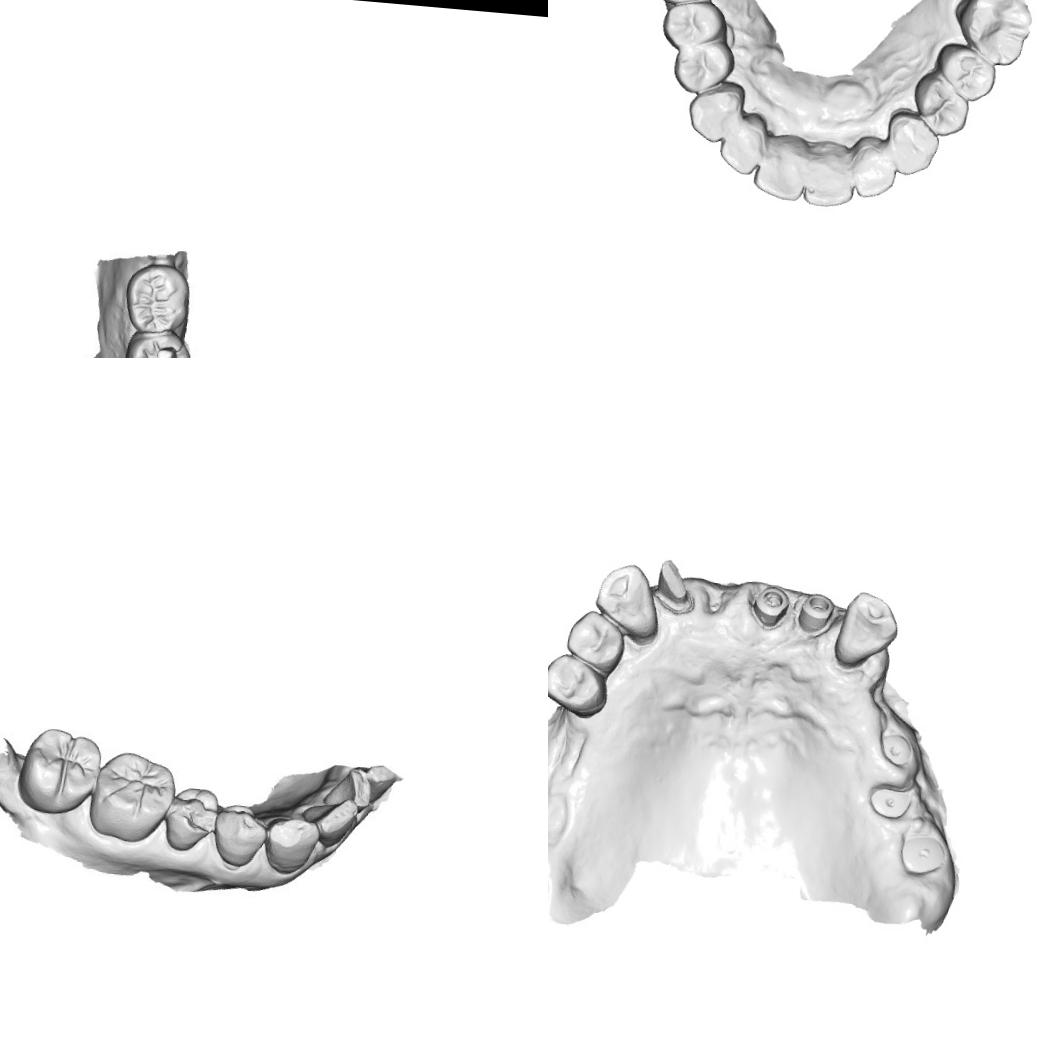canine: (832, 587, 900, 667), (592, 560, 660, 637), (881, 108, 943, 179), (262, 812, 318, 877), (684, 84, 741, 146)
crown: (648, 552, 697, 610)
implant: (898, 833, 950, 878), (868, 778, 913, 822), (750, 583, 792, 630), (796, 589, 838, 634), (875, 731, 914, 769)
incisor: (749, 133, 810, 204), (800, 140, 857, 210), (846, 138, 900, 200), (715, 117, 765, 179), (301, 798, 360, 846), (320, 763, 372, 813)
molar: (82, 747, 178, 847), (15, 722, 102, 819), (952, 0, 1035, 68), (127, 264, 188, 329), (122, 328, 195, 358)
premolar: (161, 779, 223, 855), (205, 800, 269, 872), (562, 606, 628, 674), (910, 70, 974, 140), (932, 40, 1000, 104), (548, 650, 610, 717), (670, 38, 737, 96), (659, 0, 728, 52)
